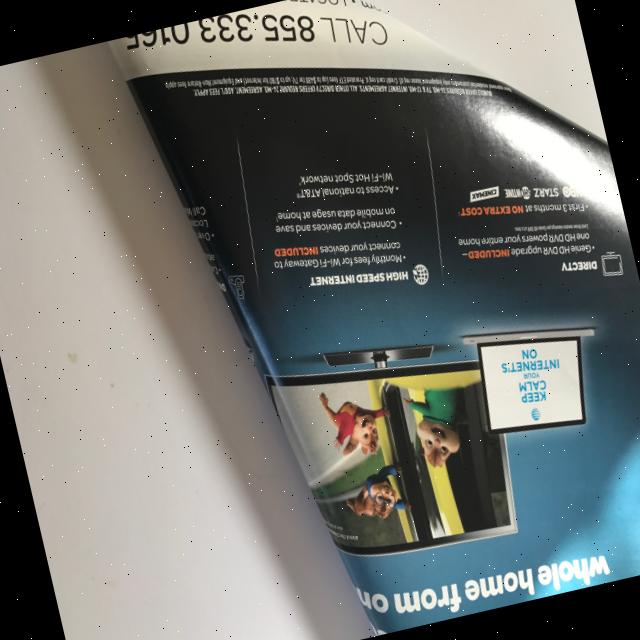paper: (104, 0, 640, 640)
